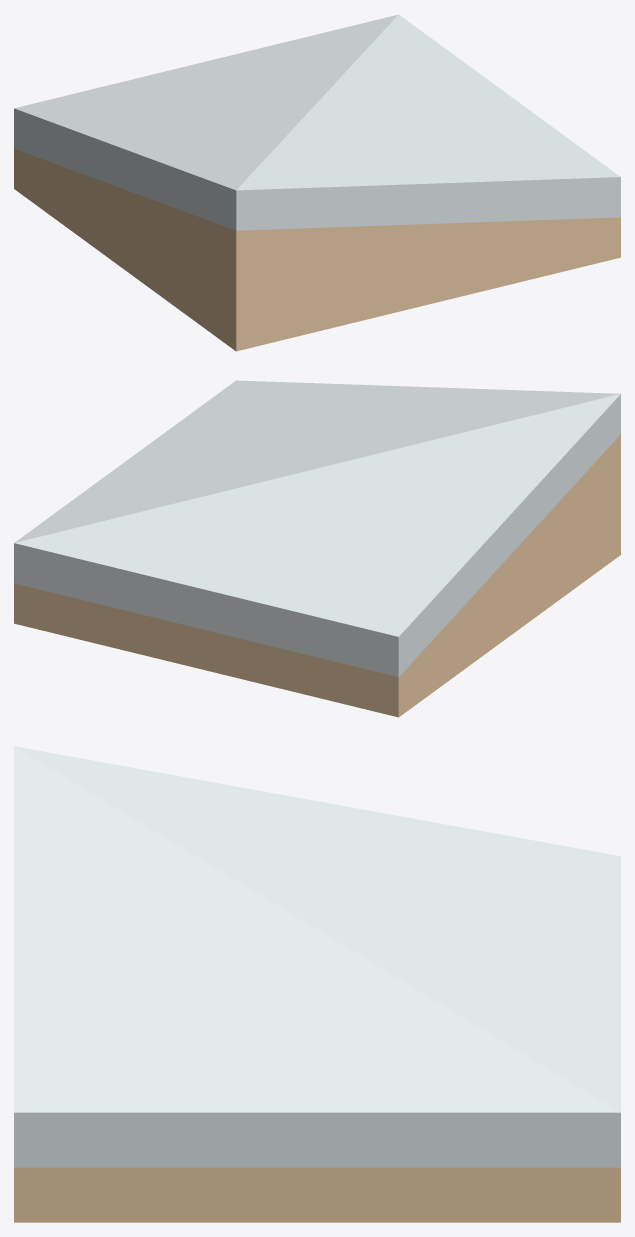
The model's file is snow_tile_cornerOuter.glb.
3 renders of one model, top to bottom at view 1: azimuth 30°, elevation 25°; view 2: azimuth 150°, elevation 25°; view 3: azimuth 270°, elevation 25°, orthographic. The views are drawn at different scales.
Parts seen in each view (by area): view 1: snow_tile_cornerOuter; view 2: snow_tile_cornerOuter; view 3: snow_tile_cornerOuter.
Boxes of the visible parts, x1,y1,x2,y2 form: snow_tile_cornerOuter: [14, 14, 620, 351]; snow_tile_cornerOuter: [14, 380, 620, 717]; snow_tile_cornerOuter: [14, 746, 620, 1222].
Bounding box in the file's own units: 1 × 0.4 × 1.
